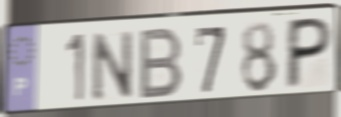1: (65, 31, 86, 105)
7: (194, 25, 228, 95)
8: (239, 18, 280, 94)
B: (137, 24, 185, 102)
N: (90, 27, 135, 104)
P: (282, 15, 335, 92)
